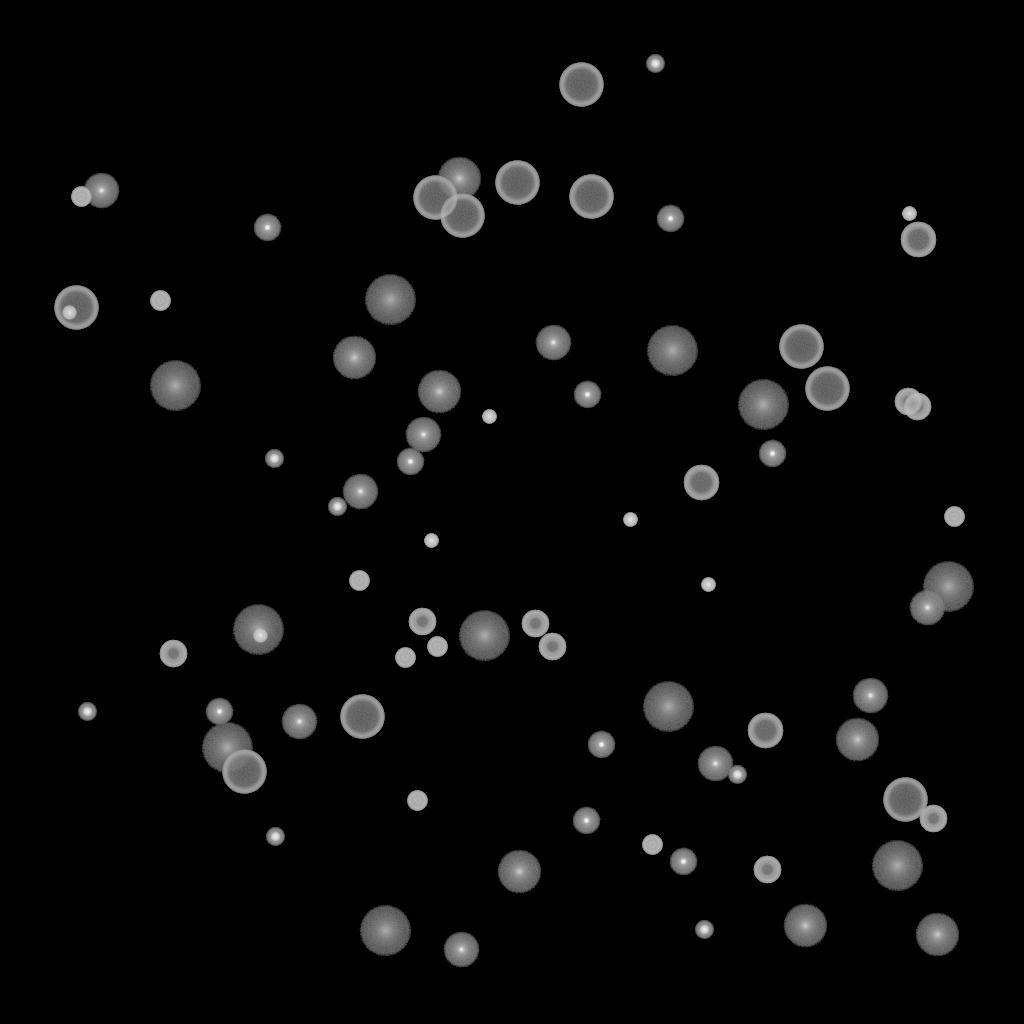depth:-10: (253, 214, 281, 242), (205, 698, 233, 726), (396, 448, 424, 476), (656, 205, 684, 233), (573, 381, 601, 409), (758, 440, 786, 468), (587, 731, 615, 759), (572, 807, 600, 835), (669, 848, 697, 876)
depth:-20: (265, 450, 283, 468), (695, 921, 713, 939), (728, 766, 746, 784), (328, 498, 346, 516), (266, 828, 284, 846), (646, 55, 664, 73), (78, 703, 96, 721)
depth:-30: (253, 629, 267, 643), (62, 306, 76, 320), (623, 513, 637, 527), (902, 207, 916, 221), (701, 578, 715, 592), (424, 534, 438, 548), (482, 410, 496, 424)
depth:-40: (395, 648, 415, 668), (349, 571, 369, 591), (427, 637, 447, 657), (71, 187, 91, 207), (642, 835, 662, 855), (407, 791, 427, 811), (944, 507, 964, 527), (150, 291, 170, 311)
depth:-50: (903, 393, 931, 421), (159, 640, 187, 668), (521, 610, 549, 638), (408, 608, 436, 636), (753, 856, 781, 884), (894, 388, 922, 416), (538, 633, 566, 661), (919, 805, 947, 833)
depth:-60: (900, 222, 936, 258), (747, 713, 783, 749), (683, 465, 719, 501)
depth:-70: (779, 325, 823, 369), (805, 367, 849, 411), (340, 695, 384, 739), (495, 161, 539, 205), (413, 176, 457, 220), (559, 63, 603, 107), (569, 175, 613, 219), (883, 778, 927, 822), (222, 750, 266, 794), (54, 286, 98, 330), (440, 194, 484, 238)
depth:0: (443, 932, 479, 968), (535, 325, 571, 361), (281, 704, 317, 740), (697, 746, 733, 782), (342, 474, 378, 510), (405, 417, 441, 453), (83, 173, 119, 209), (909, 590, 945, 626), (852, 678, 888, 714)
depth:10: (437, 157, 481, 201), (915, 913, 959, 957), (332, 336, 376, 380), (835, 718, 879, 762), (497, 850, 541, 894), (417, 370, 461, 414), (783, 904, 827, 948)
depth:20: (922, 562, 974, 612), (364, 275, 416, 325), (359, 906, 411, 956), (642, 682, 694, 732), (737, 380, 789, 430), (232, 605, 284, 655), (871, 841, 923, 891), (646, 326, 698, 376), (149, 361, 201, 411), (458, 611, 510, 661), (201, 723, 253, 773)
